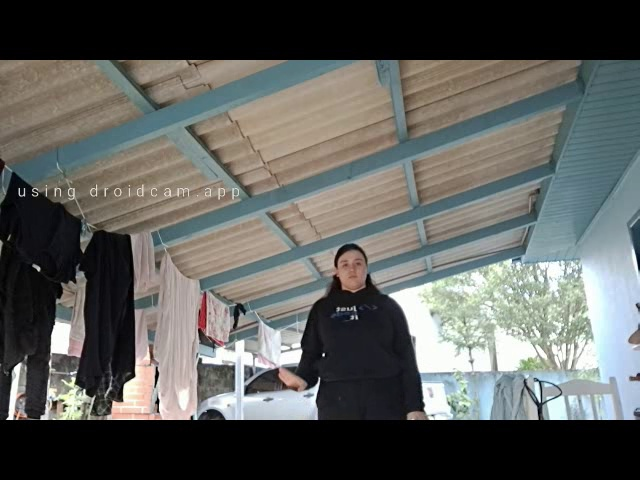MULHER: (312, 226, 390, 298)
